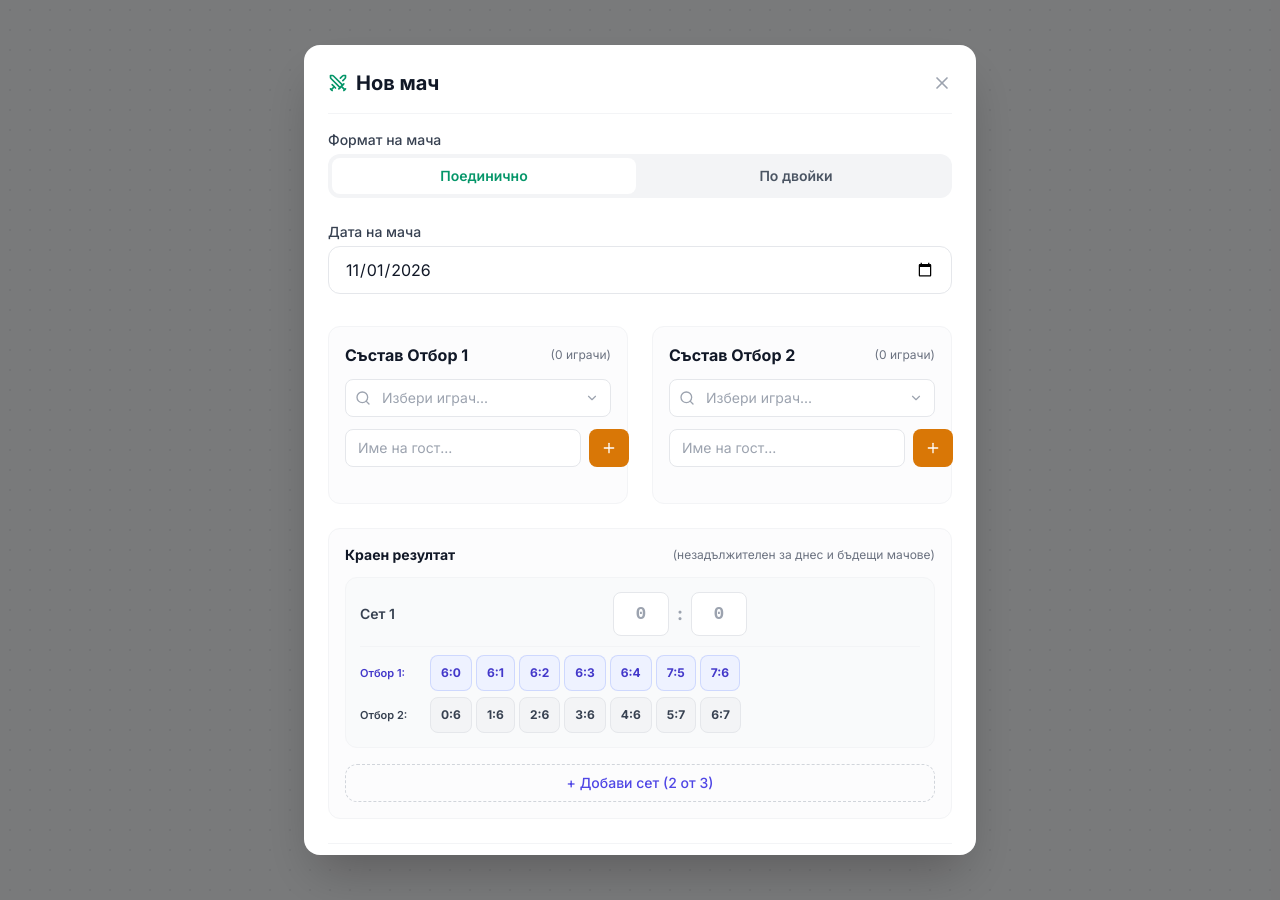
Scenario: MatchModal Component › filters players on keystroke and adds player instantly from combobox
The width and height of the screenshot is (1280, 900).
Step 1. Type "Берб" into the dropdown named "Избери играч за Отбор 1" → coordinates (478, 398), box [345,379,611,417]
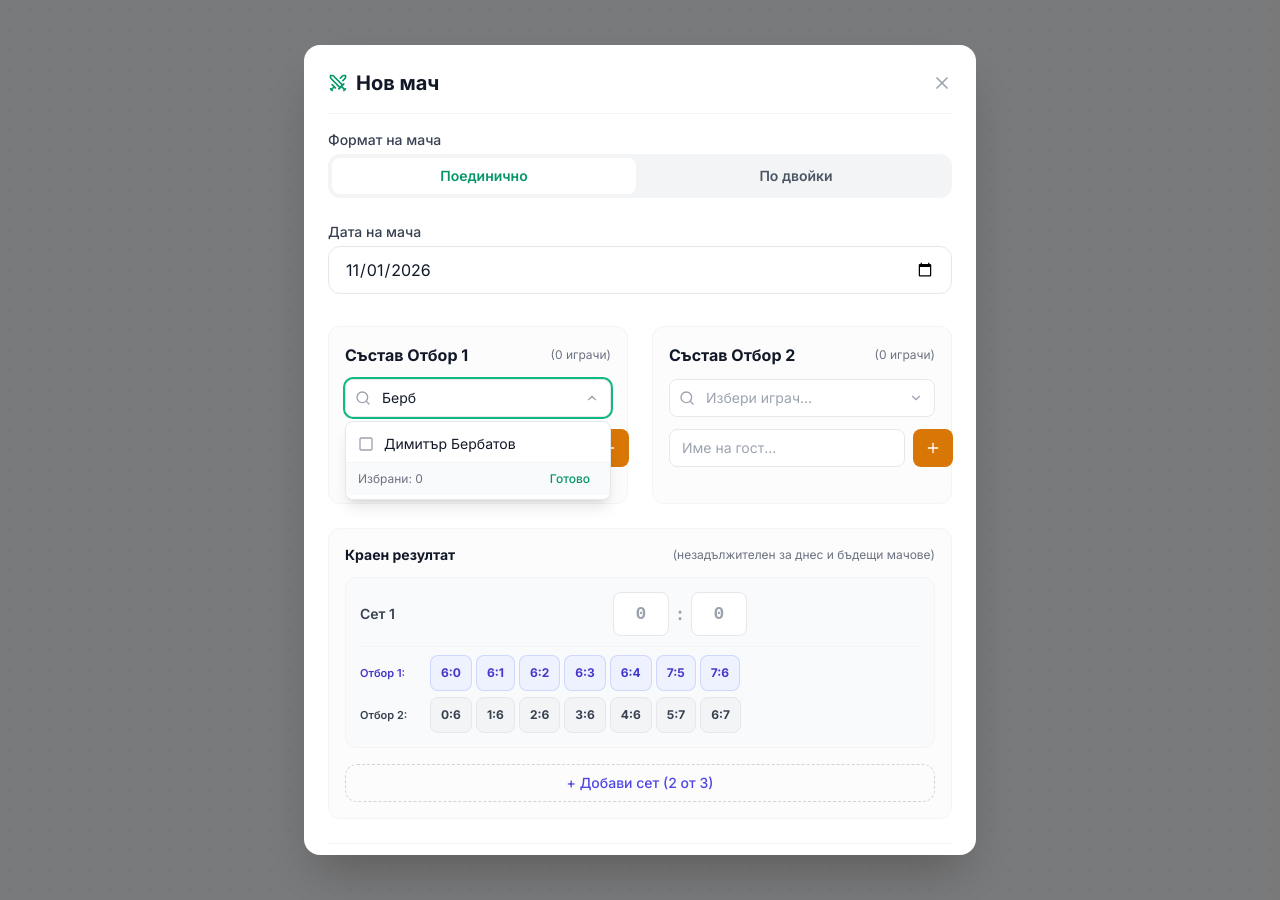
Result: the option "Димитър Бербатов" is shown
// Clicking option instantly adds to Team 1
Step 2. Click the option "Димитър Бербатов" → coordinates (478, 444), box [346,426,610,462]
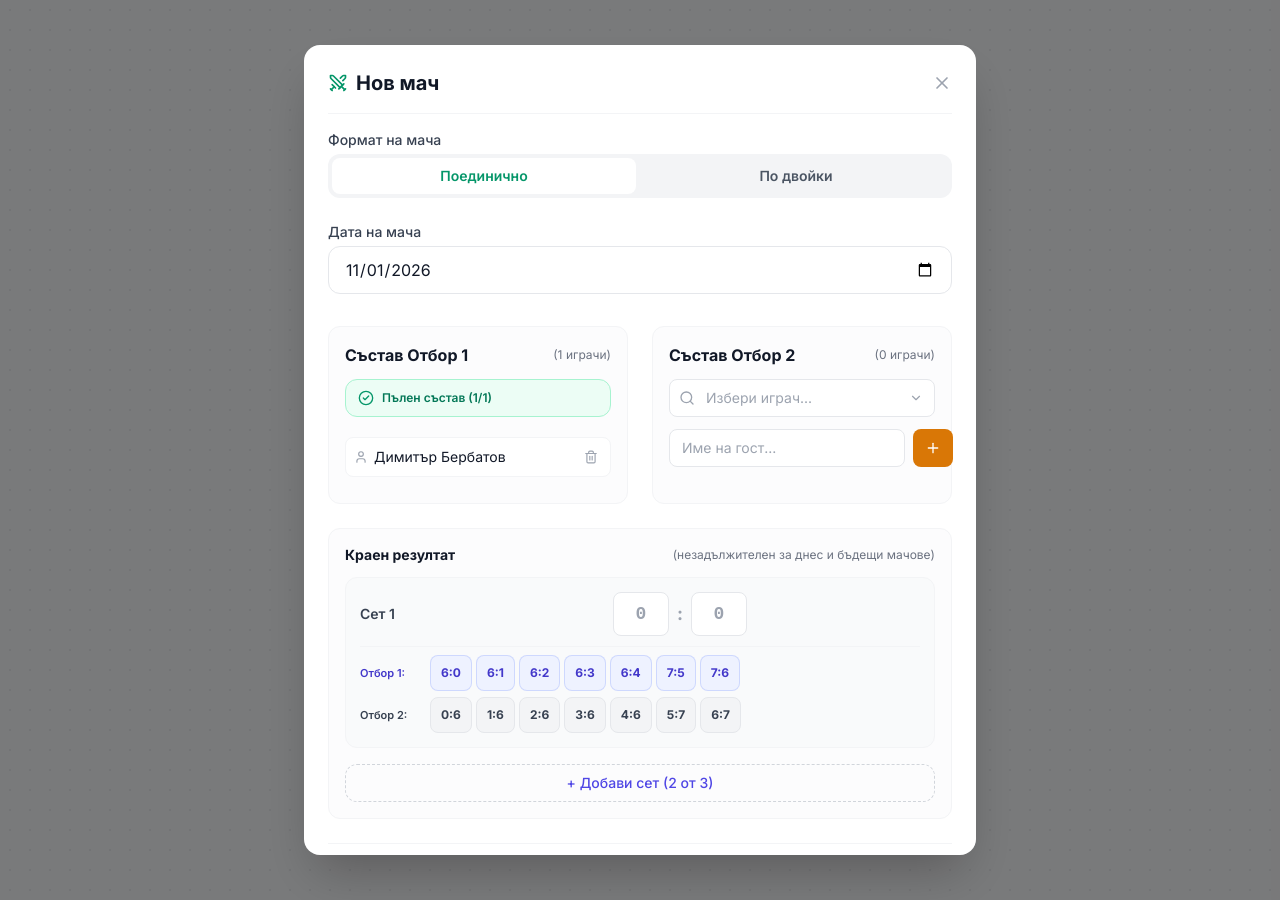
Result: the button named "премахни димитър бербатов" is shown at [580,446,602,468]
